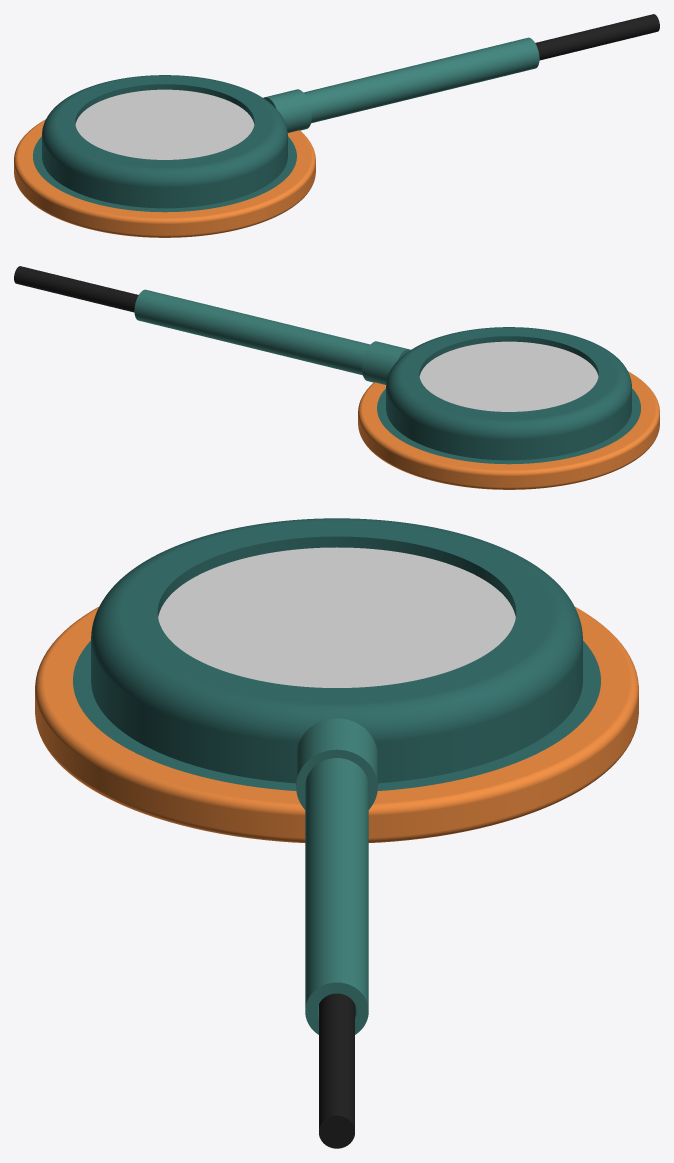
The model's file is modulo2_bobina.glb.
The picture shows the model from 3 angles, top to bottom: view 1: azimuth 30°, elevation 25°; view 2: azimuth 150°, elevation 25°; view 3: azimuth 270°, elevation 25°; orthographic projection. The views are drawn at different scales.
Visible parts, largest first — view 1: funda, anillo, bobina, manga, cable; view 2: funda, anillo, bobina, manga, cable; view 3: funda, bobina, anillo, manga, cable.
Boxes of the visible parts, x1,y1,x2,y2 form: funda: [33, 75, 296, 212]; anillo: [14, 119, 315, 237]; bobina: [75, 89, 254, 159]; manga: [263, 37, 539, 132]; cable: [535, 14, 659, 60]; funda: [377, 327, 640, 464]; anillo: [358, 371, 659, 489]; bobina: [419, 341, 598, 411]; manga: [134, 289, 410, 384]; cable: [14, 266, 138, 312]; funda: [73, 518, 600, 790]; bobina: [158, 547, 515, 687]; anillo: [35, 607, 638, 842]; manga: [296, 718, 377, 1034]; cable: [319, 993, 354, 1148].
Bounding box in the file's own units: 94.8 × 7.8 × 39.89.
